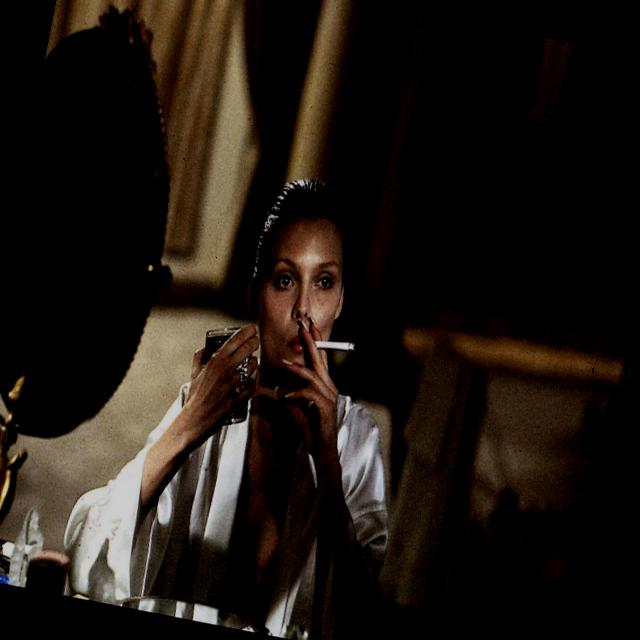cigarette: (302, 317, 368, 377)
